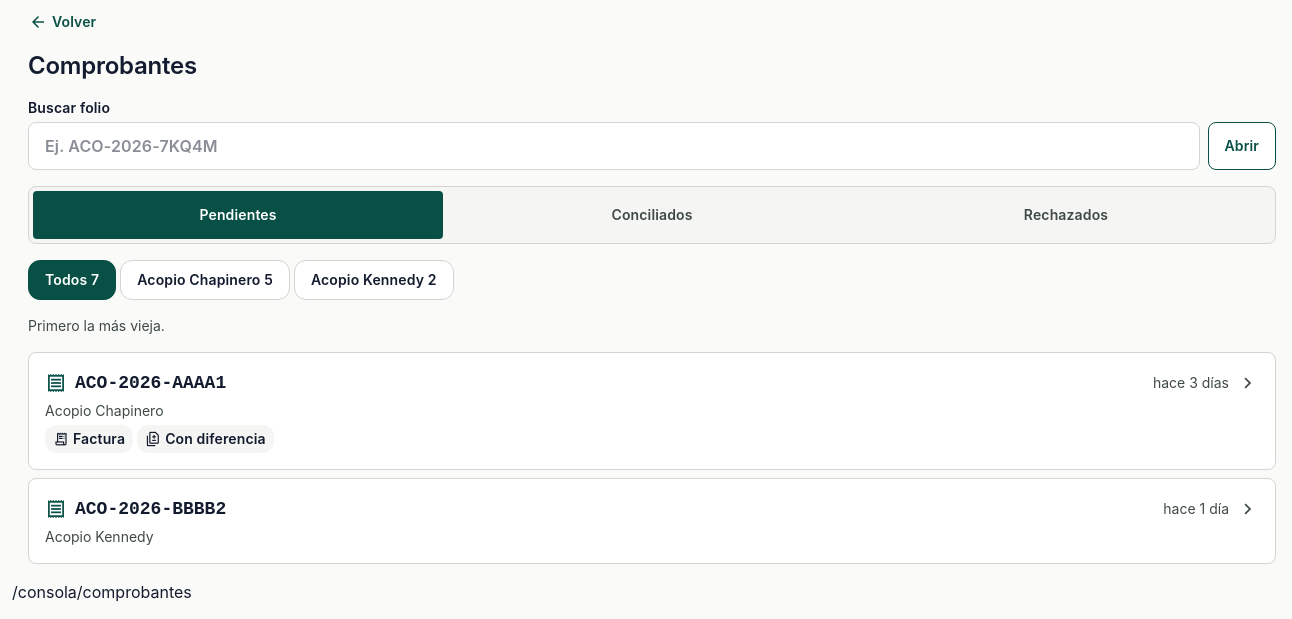
cambiar de pestaña pide ese estado y lo guarda en la URL
Expected: the list named "Comprobantes" is shown, [28, 352, 1276, 564]
Click the radio button labelled "Rechazados". click: (1066, 214)
box: [1024, 206, 1108, 223]
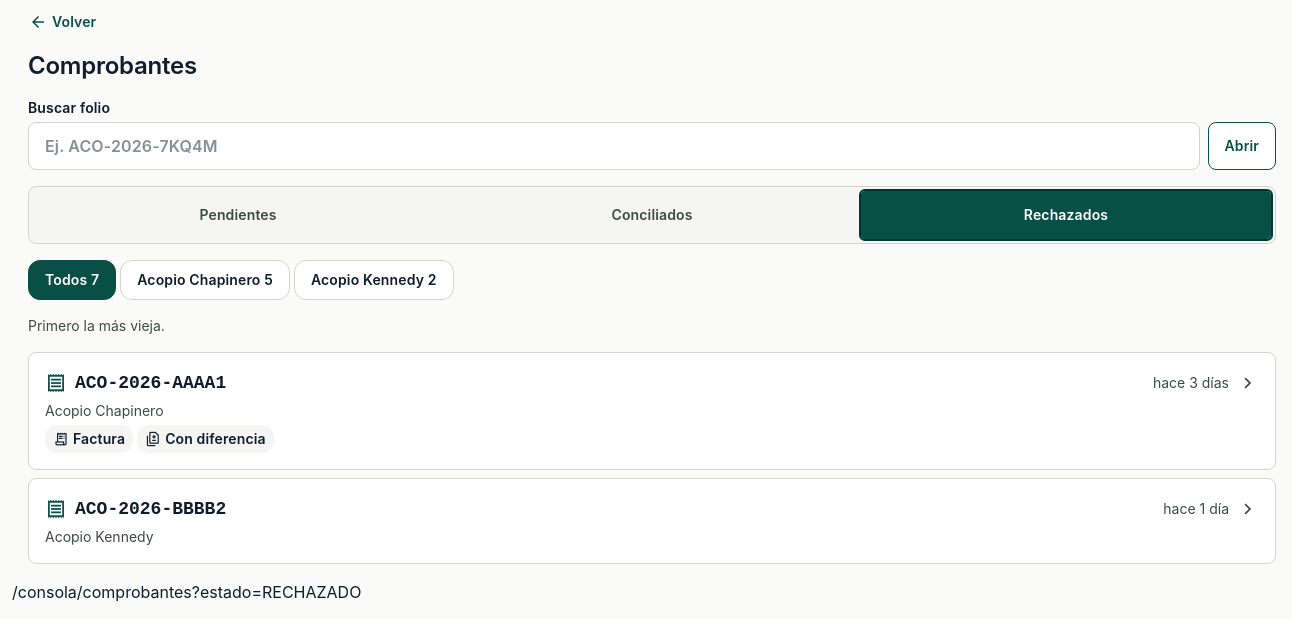
Result: the text named "Ubicación" shows "estado=RECHAZADO" at [12, 582, 361, 602]
